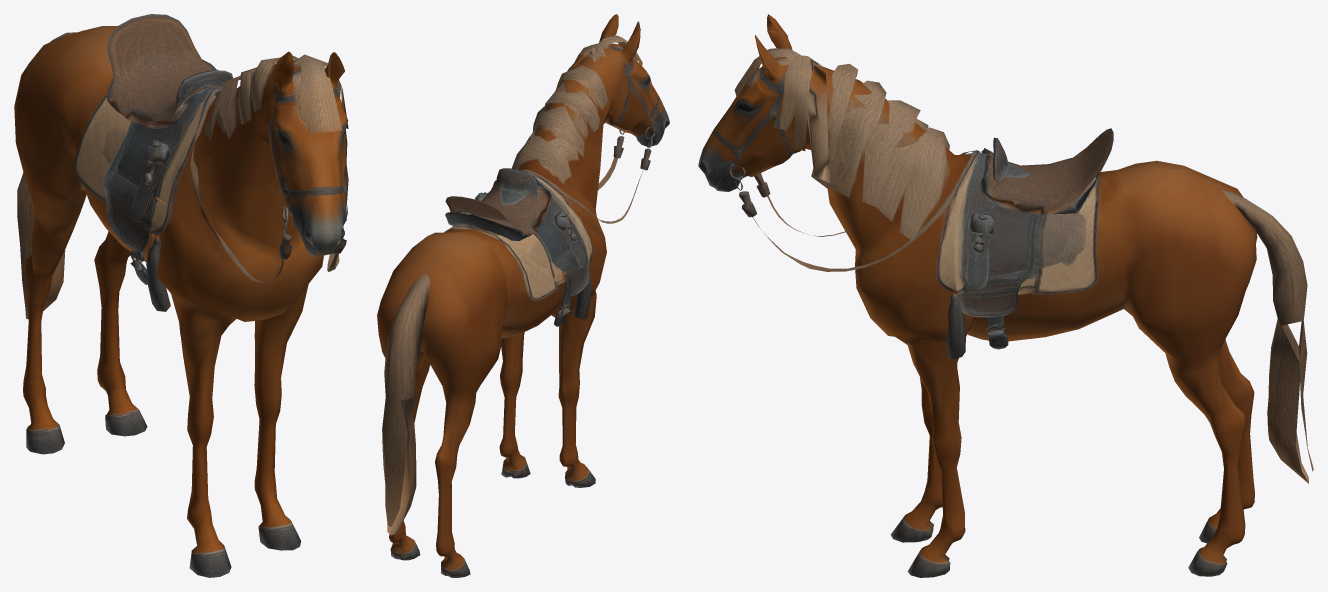
3 renders of one model, left to right at view 1: azimuth 30°, elevation 25°; view 2: azimuth 150°, elevation 25°; view 3: azimuth 270°, elevation 25°, orthographic. The views are drawn at different scales.
Bounding box in the file's own units: 0.2827 × 0.8975 × 0.9575.
1 material, 1 textured.
